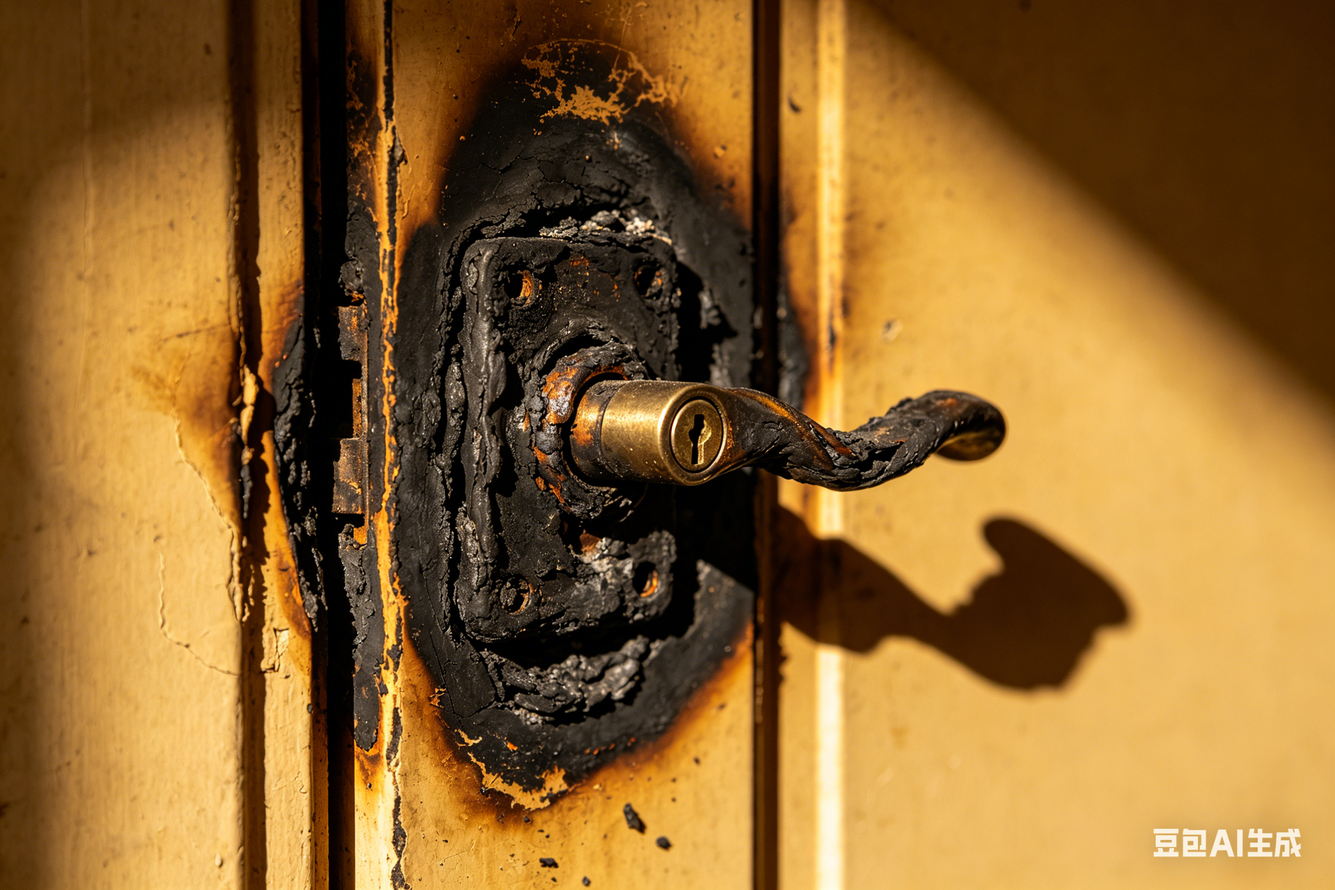BadLock: (373, 179, 1017, 496)
